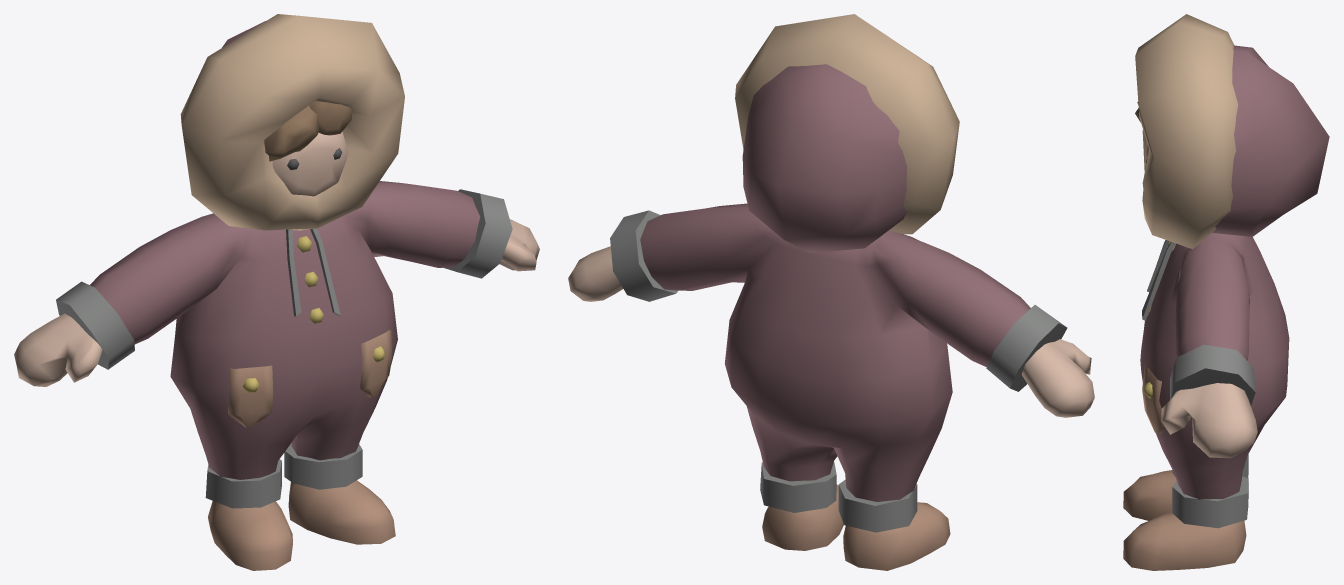
The model's file is characterBase_v2.fbx.
3 views of the same model, side by side, from view 1: azimuth 30°, elevation 25°; view 2: azimuth 150°, elevation 25°; view 3: azimuth 270°, elevation 25° (orthographic).
Parts seen in each view (by area): view 1: polySurface1, polySurface4, polySurface2, polySurface8, polySurface3, polySurface7, polySurface6, pCube1, polySurface9, pCube2, polySurface10, pCube4 (+1 smaller); view 2: polySurface1, polySurface5, polySurface4, polySurface2, polySurface3, polySurface8, polySurface7; view 3: polySurface1, polySurface4, polySurface5, polySurface2, polySurface3, polySurface8, polySurface7, pCube2, pCube4.
Boxes of the visible parts, <box> form: polySurface1: <box>90,181,480,479</box>; polySurface4: <box>180,14,404,230</box>; polySurface2: <box>208,480,395,570</box>; polySurface8: <box>56,189,512,369</box>; polySurface3: <box>14,219,539,386</box>; polySurface7: <box>205,443,362,508</box>; polySurface6: <box>272,131,347,196</box>; pCube1: <box>228,365,273,427</box>; polySurface9: <box>264,105,319,161</box>; pCube2: <box>360,329,392,397</box>; polySurface10: <box>309,101,351,135</box>; pCube4: <box>310,228,340,316</box>; polySurface1: <box>640,203,1030,501</box>; polySurface5: <box>742,64,906,252</box>; polySurface4: <box>735,14,959,234</box>; polySurface2: <box>762,484,950,570</box>; polySurface3: <box>568,246,1094,417</box>; polySurface8: <box>610,210,1067,391</box>; polySurface7: <box>760,462,917,532</box>; polySurface1: <box>1140,233,1289,499</box>; polySurface4: <box>1135,14,1238,249</box>; polySurface5: <box>1212,45,1329,236</box>; polySurface2: <box>1123,470,1246,570</box>; polySurface3: <box>1161,383,1257,458</box>; polySurface8: <box>1170,344,1255,418</box>; polySurface7: <box>1172,454,1248,528</box>; pCube2: <box>1142,365,1165,434</box>; pCube4: <box>1142,242,1175,320</box>.
Size of the model in its own units: 1.52 by 1.46 by 0.5346.
